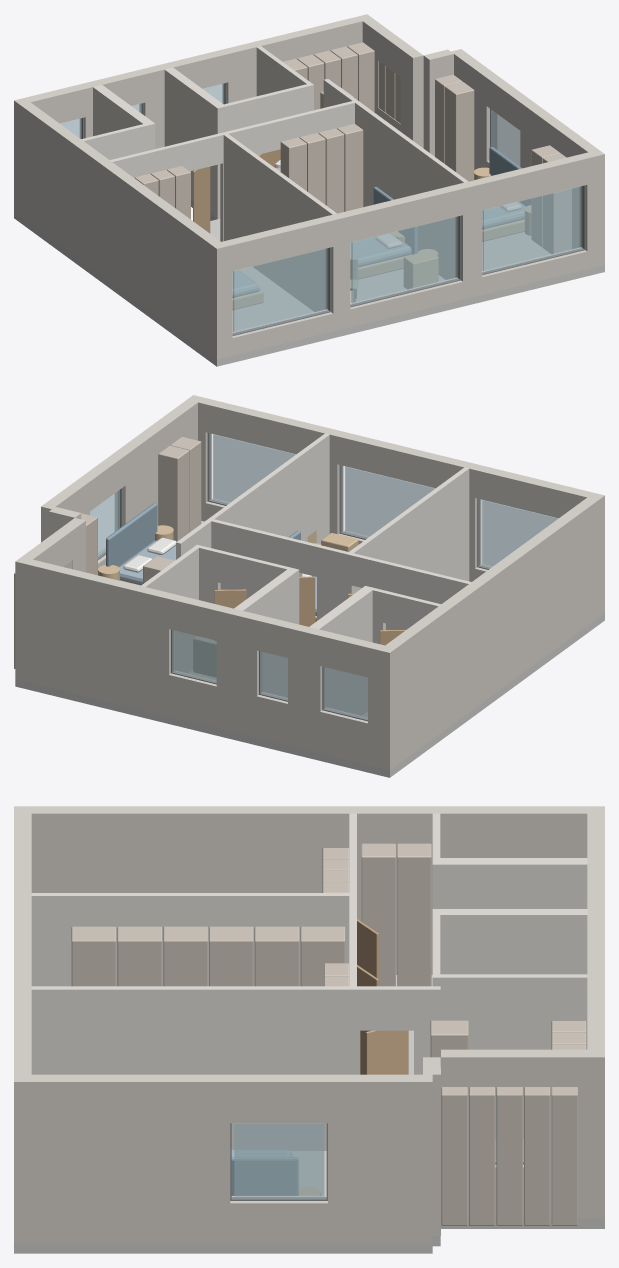
File: second-floor.glb
3 renders of one model, top to bottom at view 1: azimuth 30°, elevation 25°; view 2: azimuth 150°, elevation 25°; view 3: azimuth 270°, elevation 25°, orthographic. The views are drawn at different scales.
Parts seen in each view (by area): view 1: F2_ExtWall_07_P00, F2_Slab, F2_Bed2_Guest_P00, F2_Guest_Master_P00, F2_ExtWall_00_window_02_Glass, F2_ExtWall_00_window_03_Glass, F2_ExtWall_00_window_01_Glass, F2_ExtWall_06_P00, F2_Stair_GuestBath_P00, F2_ExtWall_00_Header_02, F2_ExtWall_00_Header_03, F2_ExtWall_01_P00 (+55 smaller); view 2: F2_ExtWall_07_P00, F2_ExtWall_06_P00, F2_Bed2_Guest_P00, F2_Guest_Master_P00, F2_ExtWall_06_P01, F2_Slab, F2_ExtWall_01_P00, F2_ExtWall_06_P02, F2_ExtWall_00_Header_02, F2_ExtWall_00_window_02_Glass, F2_ExtWall_00_Header_03, F2_LeftBath_Stair_P00 (+43 smaller); view 3: F2_ExtWall_07_P00, F2_ExtWall_01_P00, F2_Guest_Master_P00, F2_ExtWall_01_P01, F2_Bed2_Guest_P00, F2_Stair_GuestBath_P00, F2_GuestBath_Closet_P00, F2_LeftBath_Stair_P00, F2_Slab, F2_ExtWall_01_window_01_Glass, F2_ExtWall_05_P01, F2_Bed2_West_Cabinet_M02 (+32 smaller).
Boxes of the visible parts, x1=… form: F2_ExtWall_07_P00: x1=14, y1=98, x2=227, y2=358; F2_Slab: x1=14, y1=200, x2=604, y2=366; F2_Bed2_Guest_P00: x1=221, y1=132, x2=336, y2=311; F2_Guest_Master_P00: x1=353, y1=100, x2=468, y2=279; F2_ExtWall_00_window_02_Glass: x1=351, y1=217, x2=456, y2=303; F2_ExtWall_00_window_03_Glass: x1=482, y1=186, x2=580, y2=271; F2_ExtWall_00_window_01_Glass: x1=233, y1=248, x2=326, y2=332; F2_ExtWall_06_P00: x1=222, y1=15, x2=370, y2=103; F2_Stair_GuestBath_P00: x1=164, y1=67, x2=226, y2=218; F2_ExtWall_00_Header_02: x1=345, y1=184, x2=462, y2=242; F2_ExtWall_00_Header_03: x1=476, y1=154, x2=587, y2=210; F2_ExtWall_01_P00: x1=520, y1=100, x2=603, y2=260; F2_ExtWall_07_P00: x1=378, y1=493, x2=604, y2=770; F2_ExtWall_06_P00: x1=15, y1=557, x2=174, y2=716; F2_Bed2_Guest_P00: x1=346, y1=467, x2=469, y2=599; F2_Guest_Master_P00: x1=208, y1=433, x2=329, y2=543; F2_ExtWall_06_P01: x1=216, y1=606, x2=262, y2=737; F2_Slab: x1=15, y1=521, x2=604, y2=777; F2_ExtWall_01_P00: x1=115, y1=395, x2=203, y2=530; F2_ExtWall_06_P02: x1=288, y1=623, x2=326, y2=753; F2_ExtWall_00_Header_02: x1=337, y1=432, x2=462, y2=488; F2_ExtWall_00_window_02_Glass: x1=344, y1=466, x2=435, y2=537; F2_ExtWall_00_Header_03: x1=205, y1=399, x2=322, y2=454; F2_LeftBath_Stair_P00: x1=309, y1=586, x2=374, y2=715; F2_ExtWall_07_P00: x1=14, y1=806, x2=604, y2=974; F2_ExtWall_01_P00: x1=14, y1=1074, x2=230, y2=1243; F2_Guest_Master_P00: x1=31, y1=986, x2=356, y2=1150; F2_ExtWall_01_P01: x1=328, y1=1074, x2=432, y2=1243; F2_Bed2_Guest_P00: x1=31, y1=893, x2=356, y2=986; F2_Stair_GuestBath_P00: x1=432, y1=909, x2=587, y2=974; F2_GuestBath_Closet_P00: x1=432, y1=974, x2=587, y2=1138; F2_LeftBath_Stair_P00: x1=432, y1=858, x2=587, y2=908; F2_Slab: x1=14, y1=975, x2=604, y2=1253; F2_ExtWall_01_window_01_Glass: x1=234, y1=1123, x2=324, y2=1197; F2_ExtWall_05_P01: x1=542, y1=1049, x2=604, y2=1218; F2_Bed2_West_Cabinet_M02: x1=397, y1=843, x2=431, y2=986.
Bounding box in the file's own units: 10.34 × 3 × 9.36.
